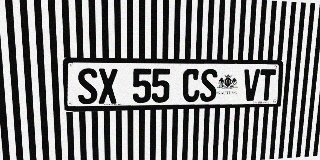5: (133, 68, 151, 103), (152, 68, 170, 103)
C: (182, 69, 200, 102)
S: (77, 68, 98, 104), (200, 69, 218, 102)
T: (258, 69, 276, 101)
V: (242, 69, 260, 101)
X: (98, 68, 118, 104)
